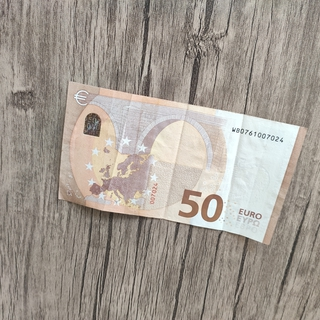50EUROBack: (56, 79, 309, 247)
